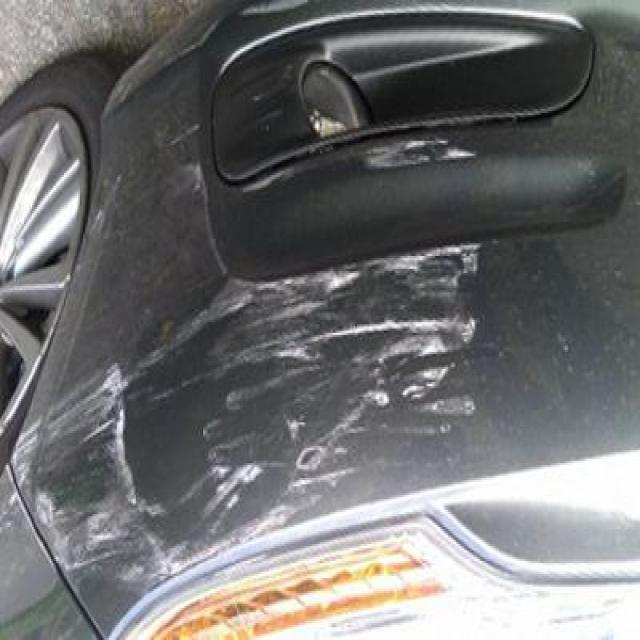scratch: (0, 196, 483, 640), (350, 112, 486, 191)
